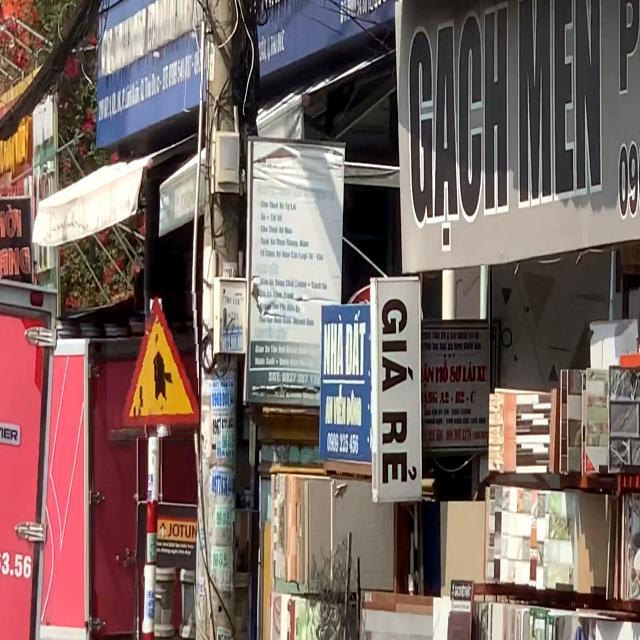W-207b: (107, 291, 199, 440)
